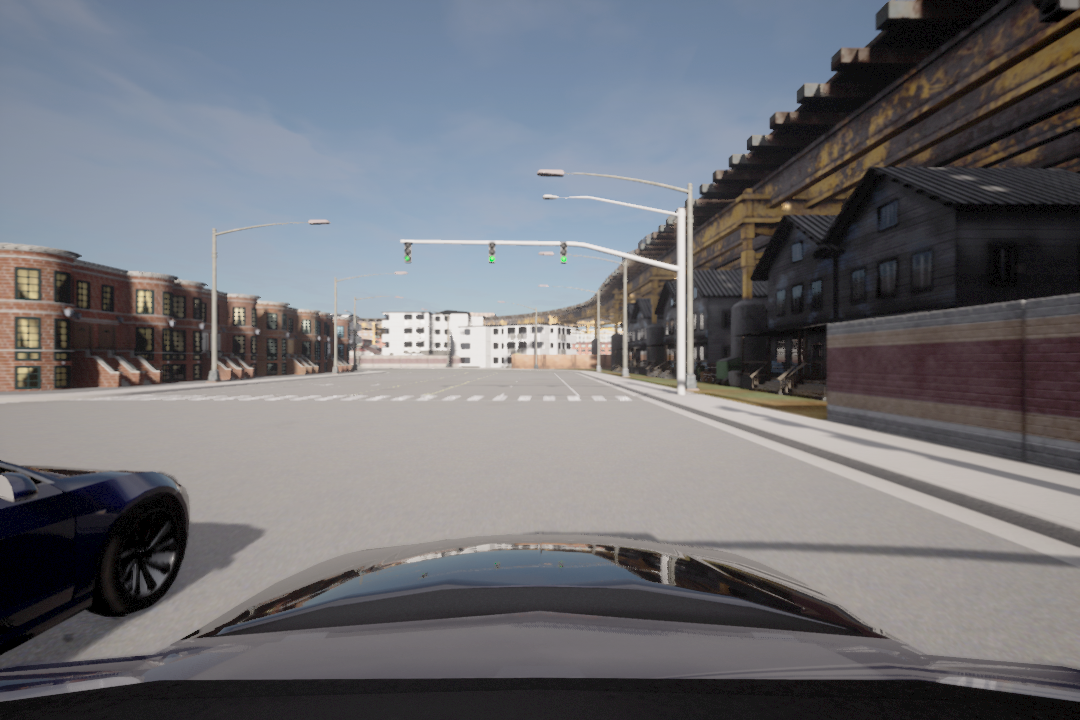TrafficLight: (486, 241, 501, 269), (404, 239, 415, 269), (560, 240, 570, 266)
walkside: (81, 387, 649, 410)
